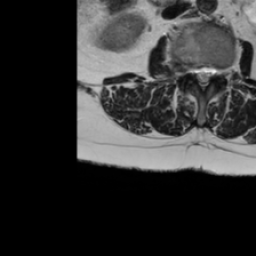CCS_normal: (199, 59, 206, 96)
LFS_normal: (215, 59, 224, 85)
LLS_normal: (206, 57, 215, 85)
RFS_normal: (184, 57, 192, 81)
RLS_stenosis: (192, 59, 199, 87)
